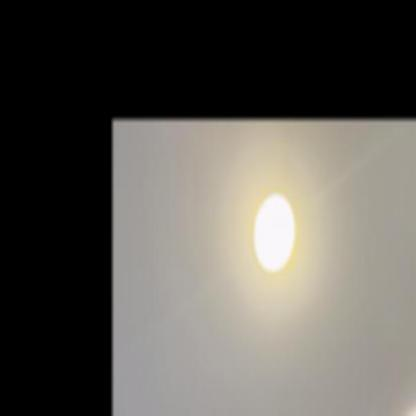light_on: (251, 184, 299, 286)
